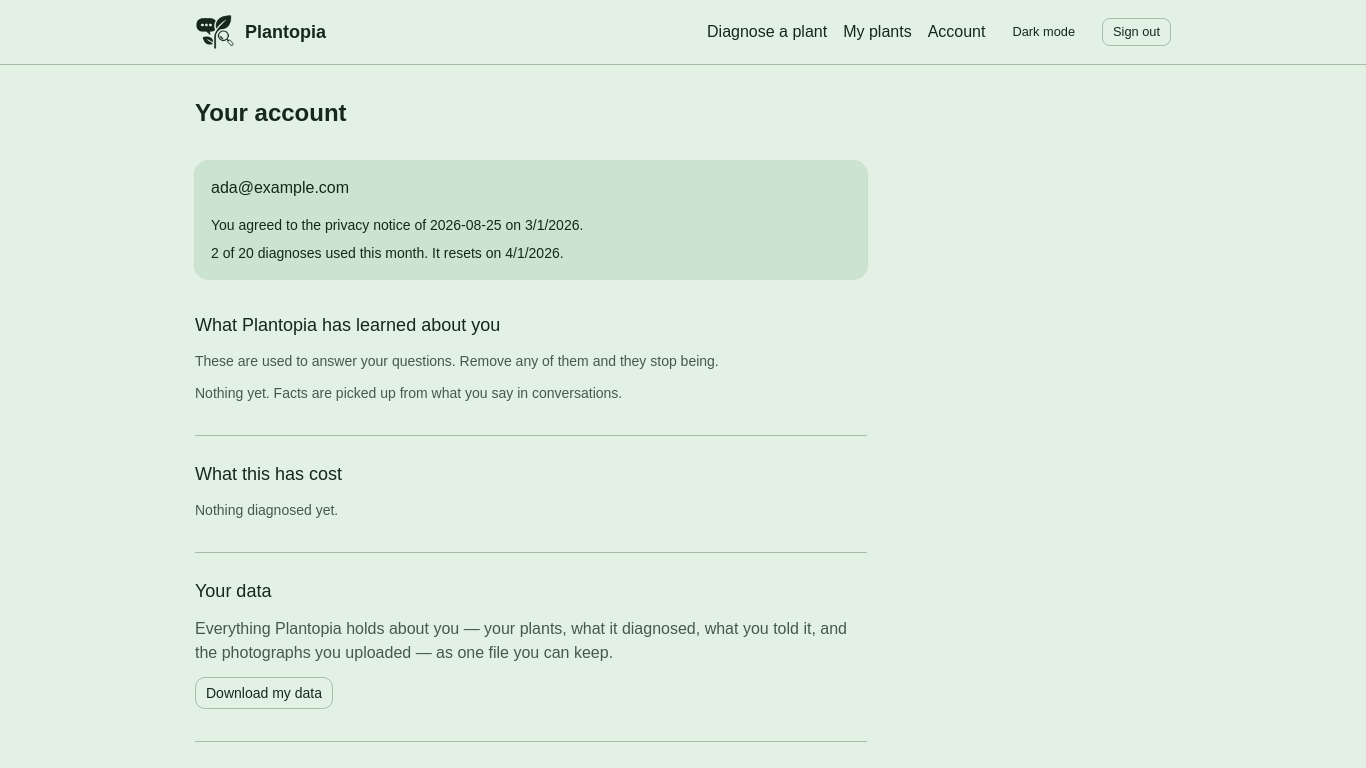
taking your data out › says so when it cannot be built
The width and height of the screenshot is (1366, 768).
Click the button "Download my data": x=264, y=693 [195,677,333,709]
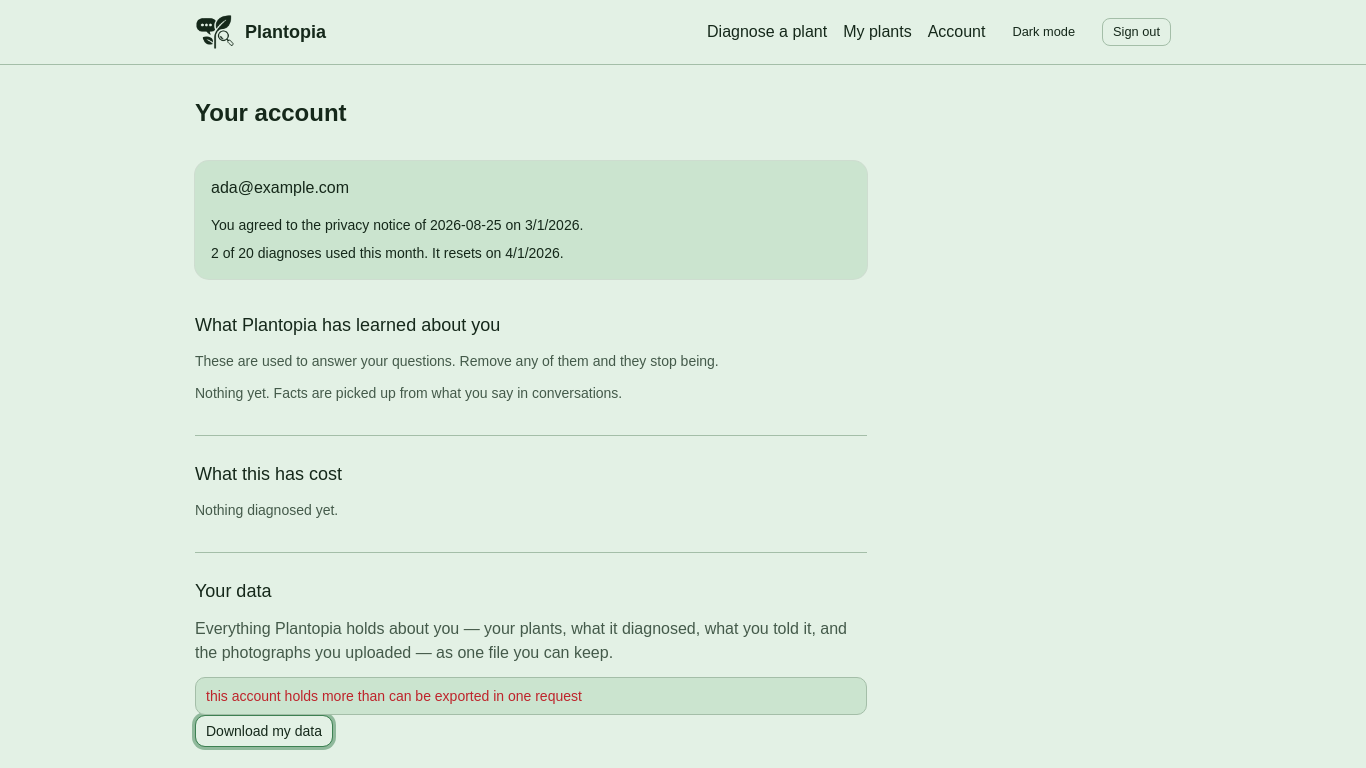
Now the text "this account holds more than can be exported in one request" is shown, box [206,688,582,704]
